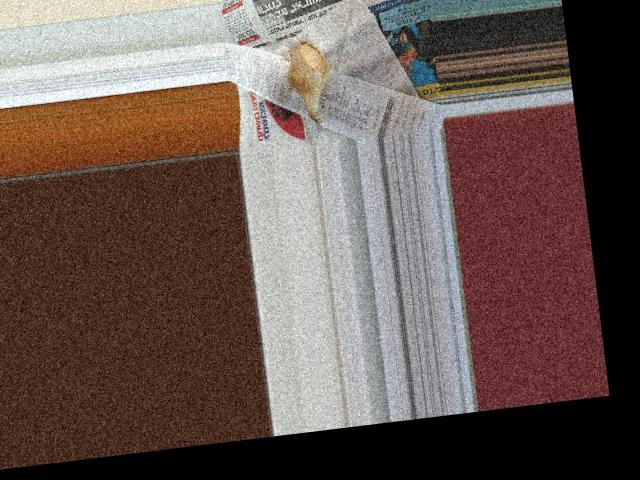onion: (284, 34, 335, 104)
